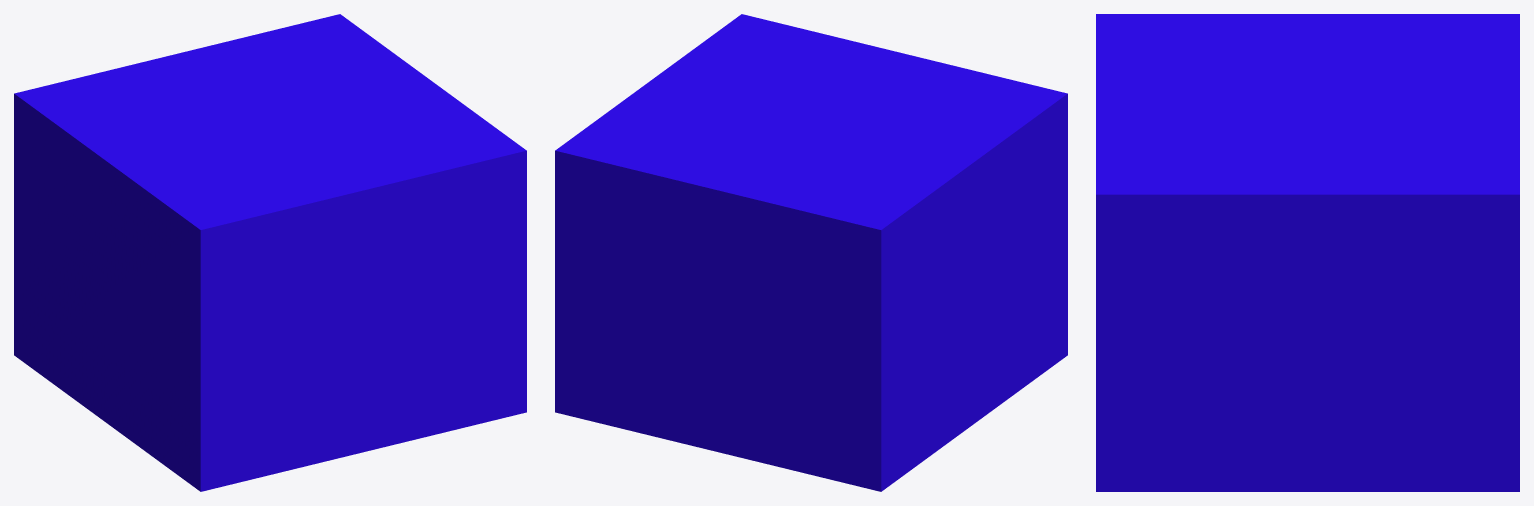
File: stage.fbx
3 views of the same model, side by side, from view 1: azimuth 30°, elevation 25°; view 2: azimuth 150°, elevation 25°; view 3: azimuth 270°, elevation 25° (orthographic). The views are drawn at different scales.
Parts seen in each view (by area): view 1: Box001; view 2: Box001; view 3: Box001.
Part boxes in pixels (x1,y1,x2,y2): Box001: (14, 14, 526, 491); Box001: (555, 14, 1067, 491); Box001: (1096, 14, 1519, 491).
Size of what is drawn, in the model's own units: 101 by 77.7 by 100.
